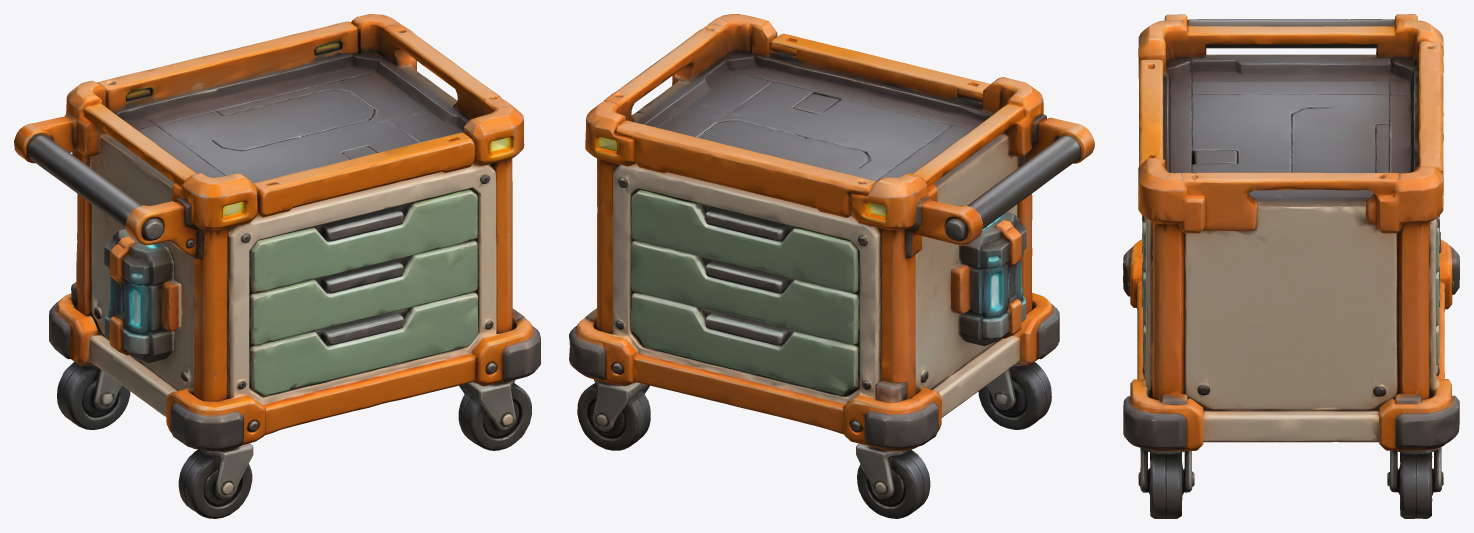
Rendered from tool+cart+3d+model.glb.
The picture shows the model from 3 angles, left to right: view 1: azimuth 30°, elevation 25°; view 2: azimuth 150°, elevation 25°; view 3: azimuth 270°, elevation 25°; orthographic projection. The views are drawn at different scales.
Parts seen in each view (by area): view 1: tripo_node_48432f8d-c268-4f92-876d-d398ffed4356; view 2: tripo_node_48432f8d-c268-4f92-876d-d398ffed4356; view 3: tripo_node_48432f8d-c268-4f92-876d-d398ffed4356.
Part boxes in pixels (x1,y1,x2,y2): tripo_node_48432f8d-c268-4f92-876d-d398ffed4356: [14, 14, 540, 518]; tripo_node_48432f8d-c268-4f92-876d-d398ffed4356: [569, 14, 1094, 518]; tripo_node_48432f8d-c268-4f92-876d-d398ffed4356: [1123, 14, 1459, 518].
Size of the model in its own units: 1 by 0.8102 by 0.7125.
1 material, 1 textured.
